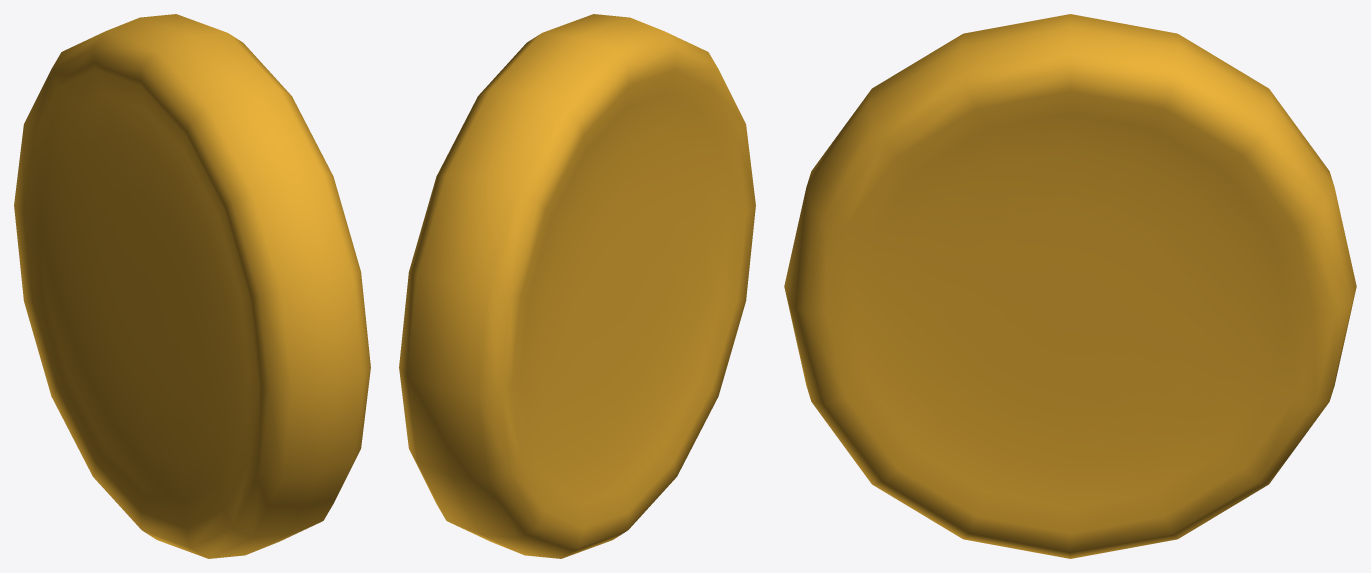
File: Coin.fbx
3 views of the same model, side by side, from view 1: azimuth 30°, elevation 25°; view 2: azimuth 150°, elevation 25°; view 3: azimuth 270°, elevation 25° (orthographic). The views are drawn at different scales.
Parts seen in each view (by area): view 1: Coin; view 2: Coin; view 3: Coin.
Boxes of the visible parts, <box> form: Coin: <box>14,14,370,558</box>; Coin: <box>399,14,755,558</box>; Coin: <box>784,14,1356,558</box>.
Bounding box in the file's own units: 38.75 × 179 × 179.
